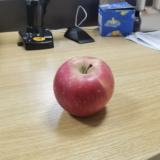apple: (53, 57, 115, 118)
